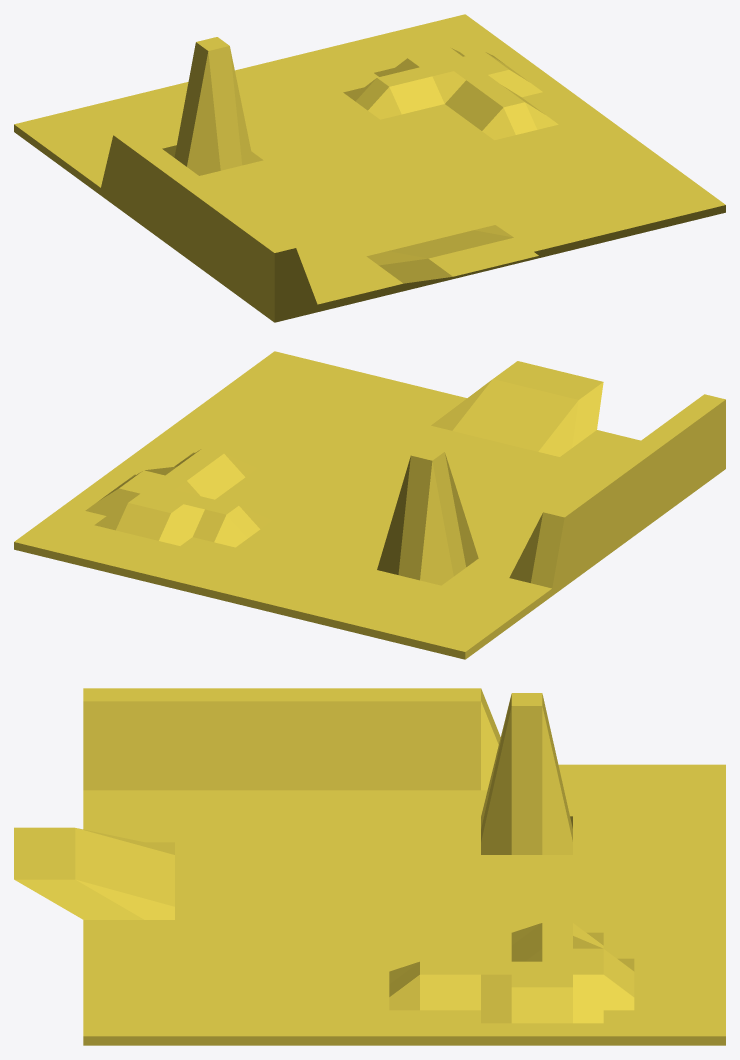
Rendered from tank_map.glb.
The picture shows the model from 3 angles, top to bottom: view 1: azimuth 30°, elevation 25°; view 2: azimuth 150°, elevation 25°; view 3: azimuth 270°, elevation 25°; orthographic projection. The views are drawn at different scales.
Visible parts, largest first — view 1: MainPlane; view 2: MainPlane; view 3: MainPlane.
Part boxes in pixels (x1,y1,x2,y2): MainPlane: (14, 14, 725, 322); MainPlane: (14, 351, 725, 659); MainPlane: (14, 688, 725, 1045).
Bounding box in the file's own units: 459 × 115 × 509.
